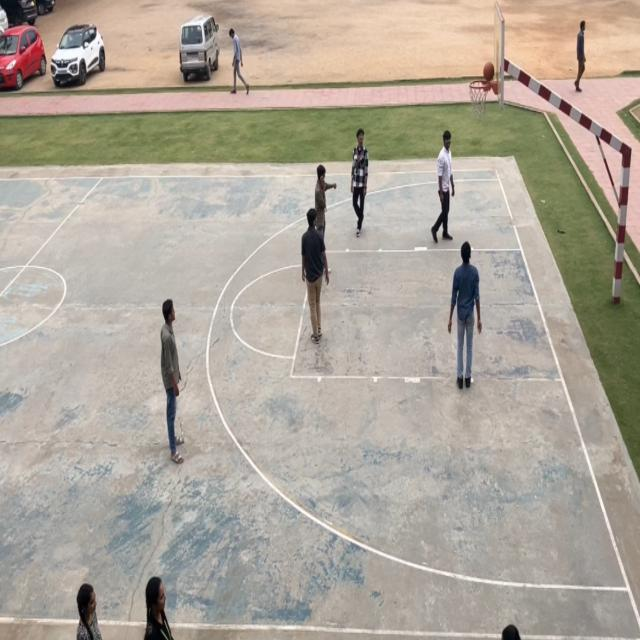basketball: (483, 62, 495, 82)
hoop: (469, 80, 490, 121)
